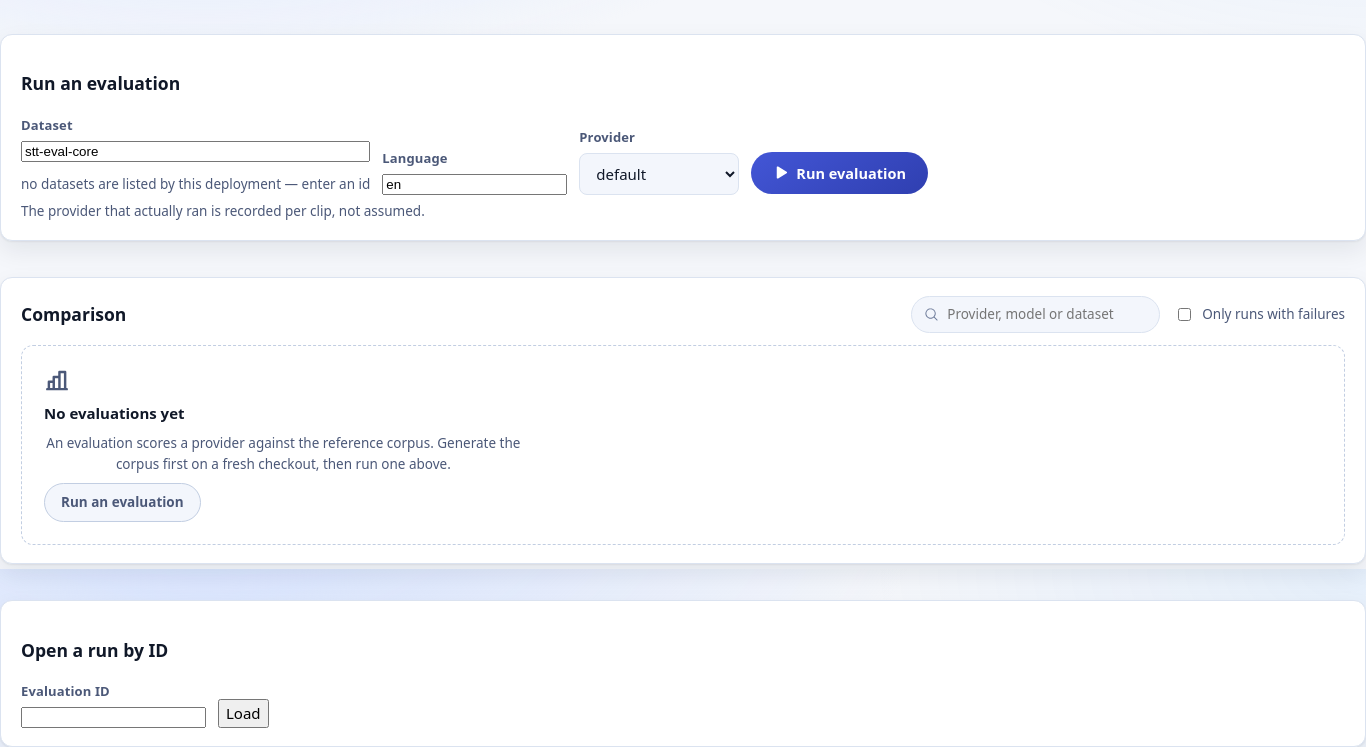
Scenario: a disabled or failed mlflow log is stated, never hidden
(page scrolled)
In the field labelled "Evaluation ID": (114, 718) [21,708,206,728], type "eval-2"
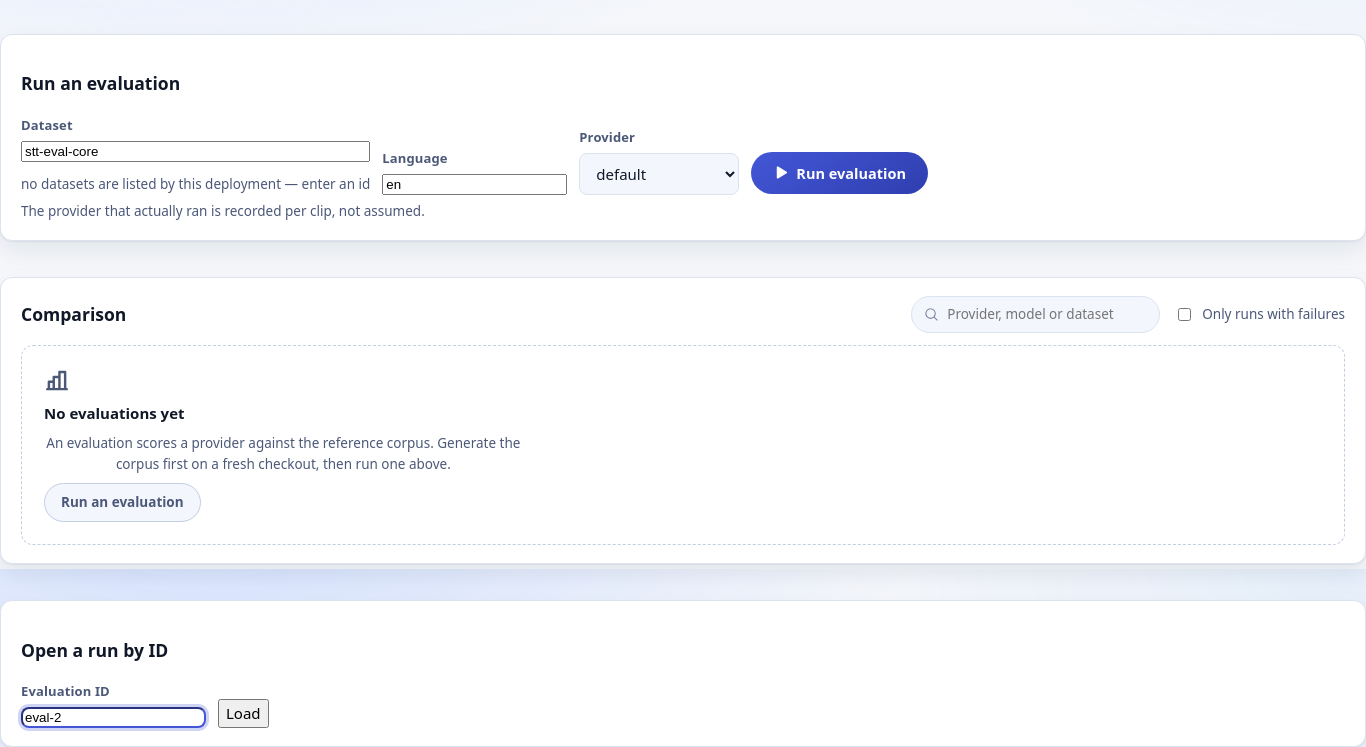
Click the button "Load": (243, 714) [218,699,269,728]
(page scrolled)
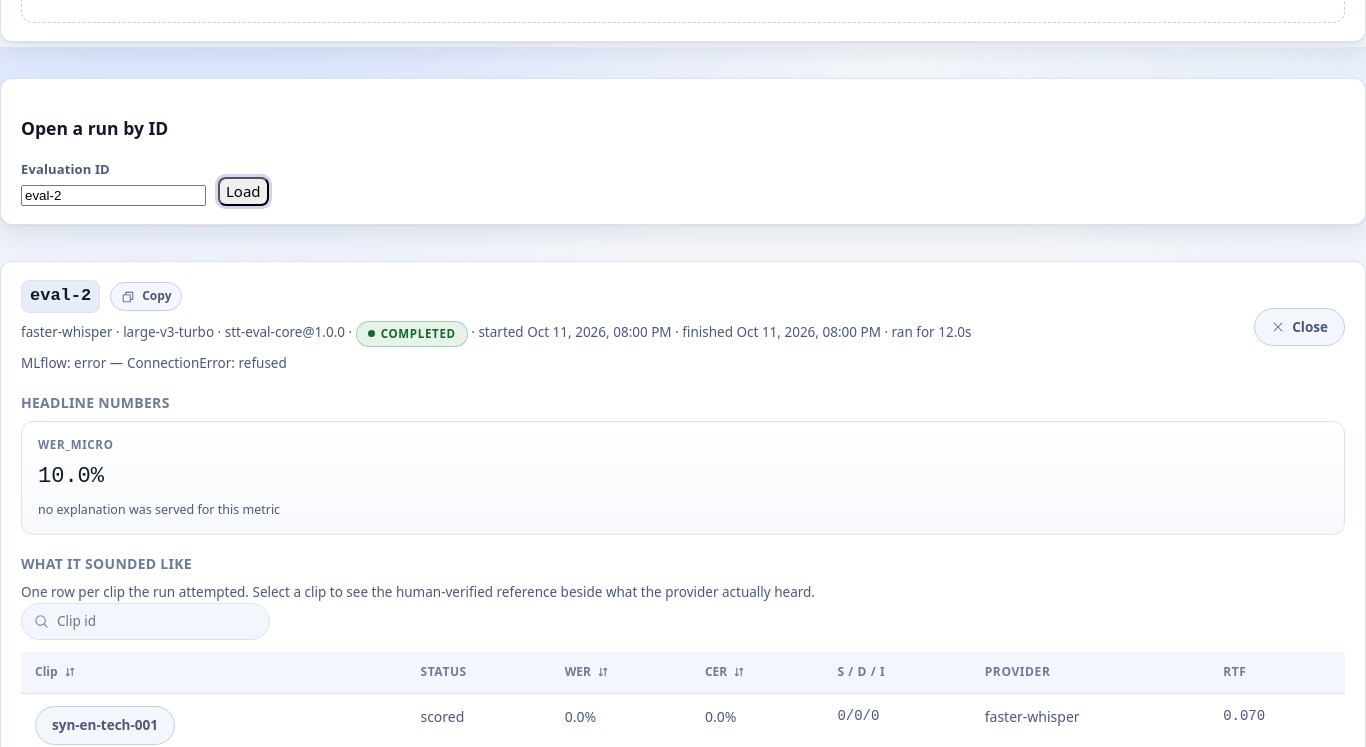
Expected: the text with test id "mlflow-status" shows "error", [74,354,106,372]
Expected: the text with test id "mlflow-status" shows "refused", [127,354,287,372]
